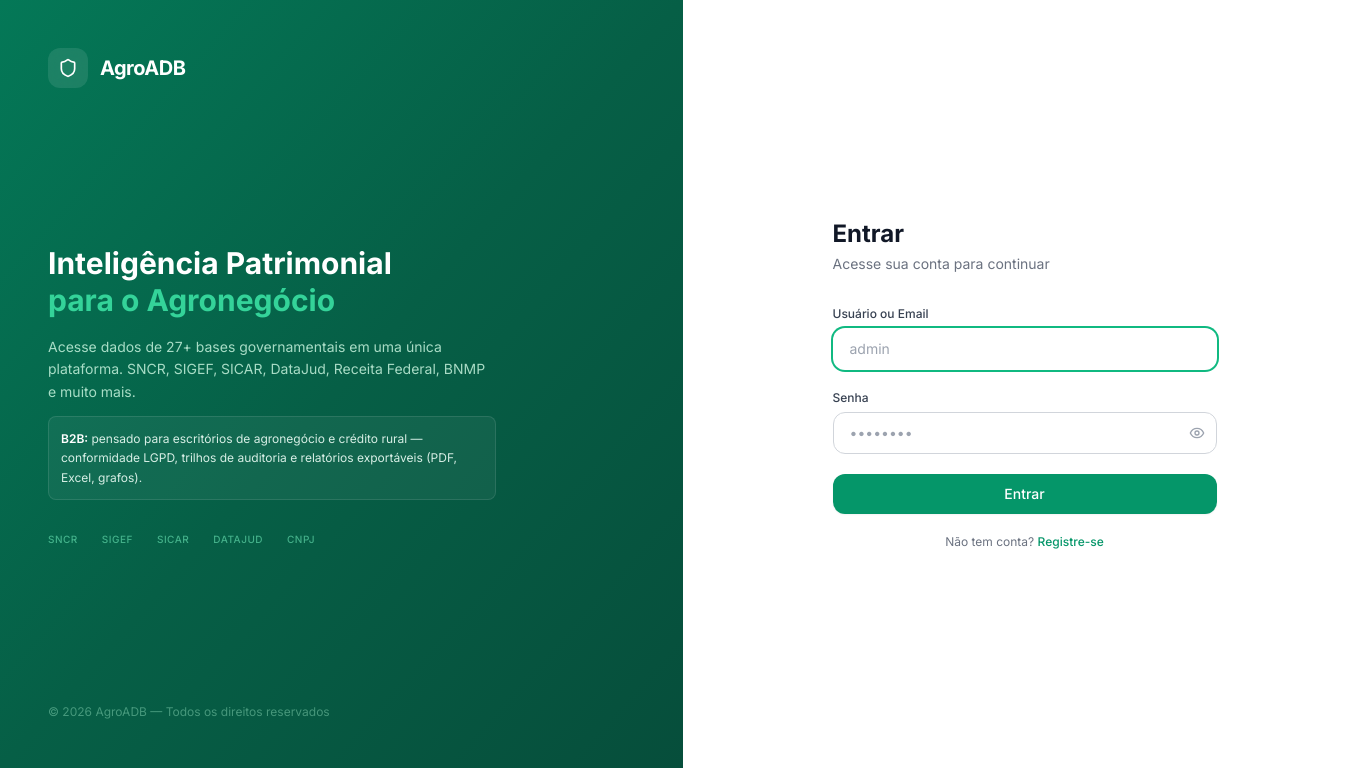
Test: LoginPage Component › should validate minimum password length
The width and height of the screenshot is (1366, 768).
Type "testuser" into the field labelled "Usuário ou Email".
click(1024, 349); type("testuser")  # box [832,328,1216,370]
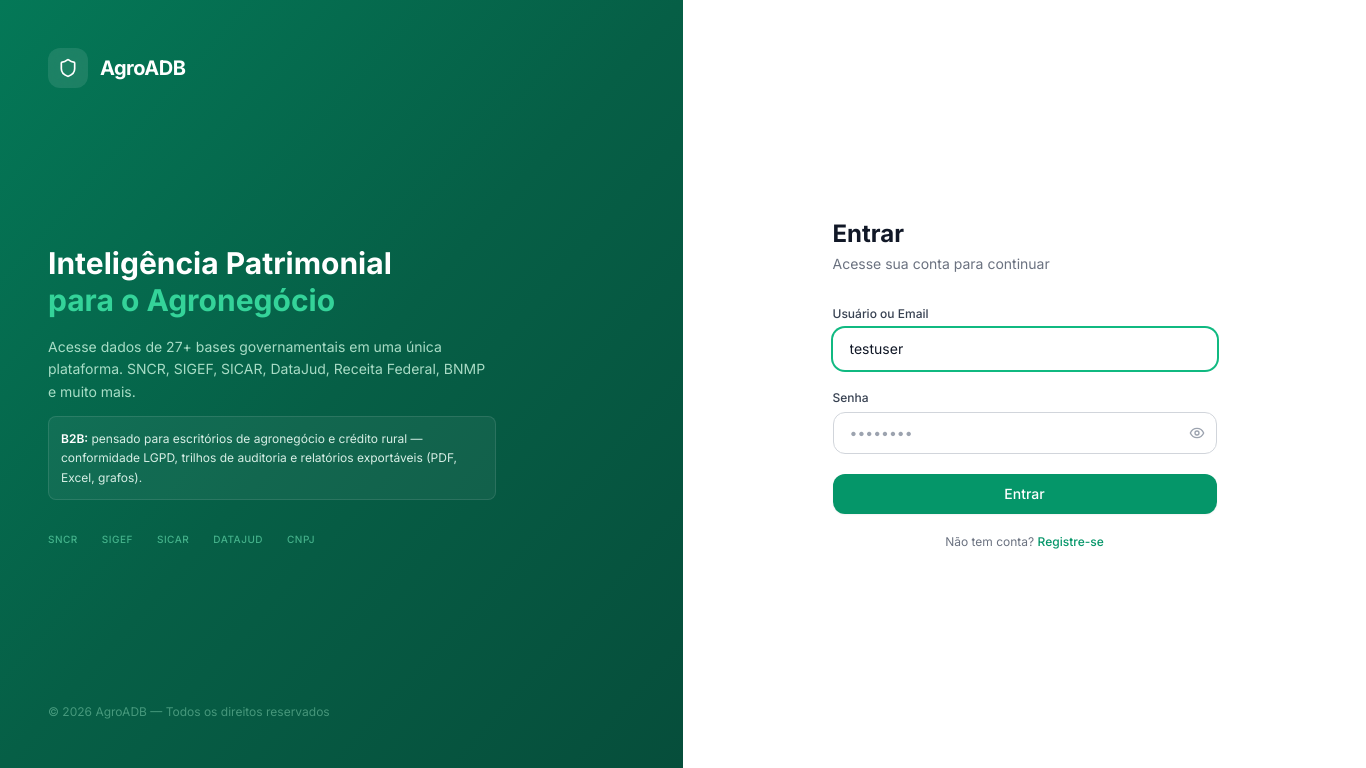
Type "1234567" into the password field labelled "Senha".
click(1024, 433); type("1234567")  # box [832,412,1216,454]
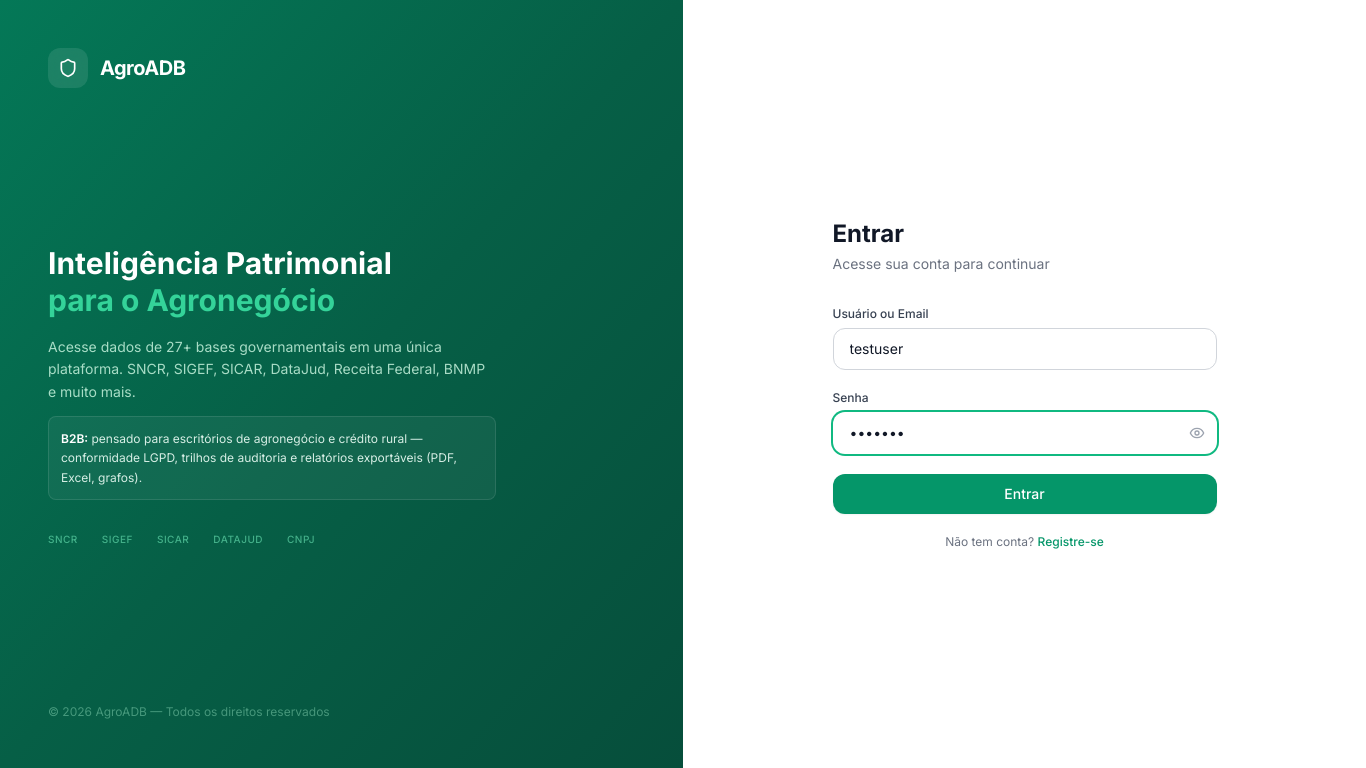
Click the button "Entrar".
click(1024, 494)  # box [832,474,1216,514]
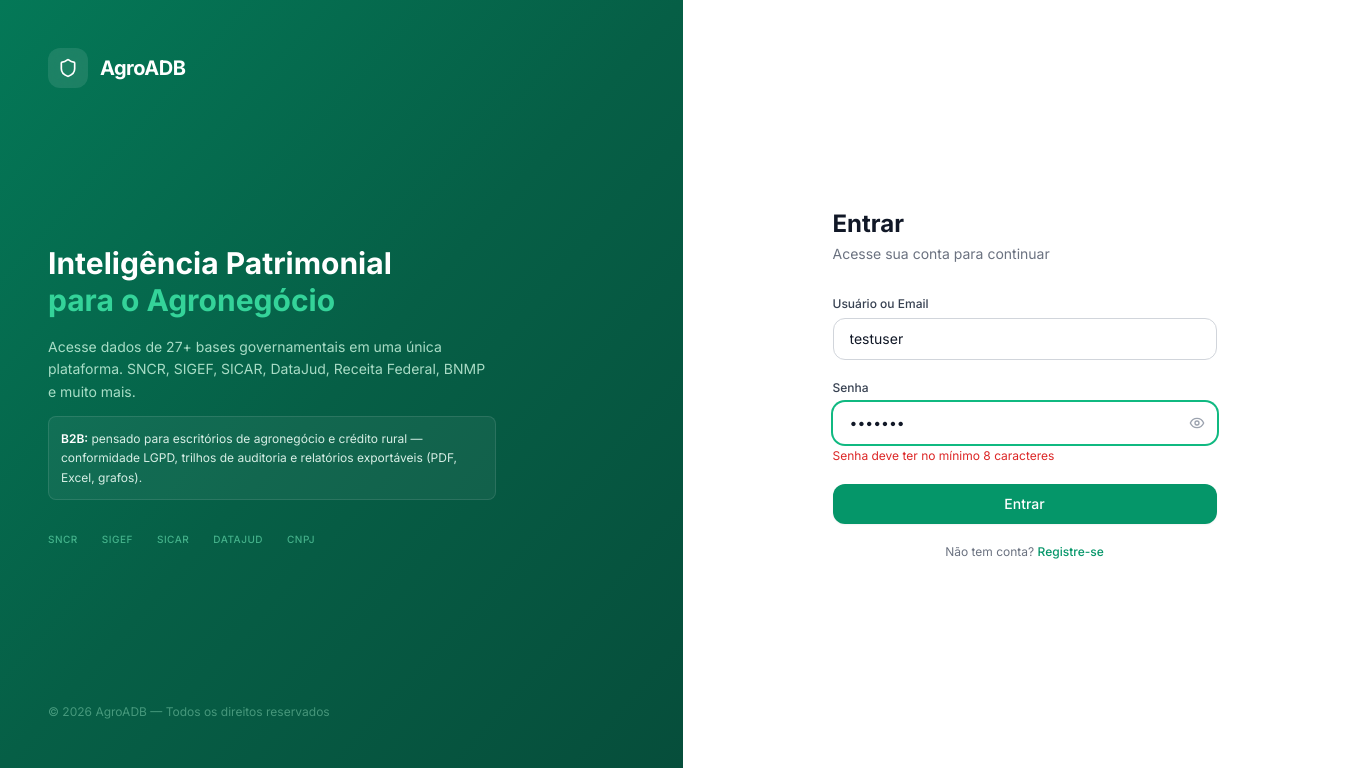
expect the text "Senha deve ter no mínimo 8 caracteres" is shown: met, box [832,448,1054,463]
